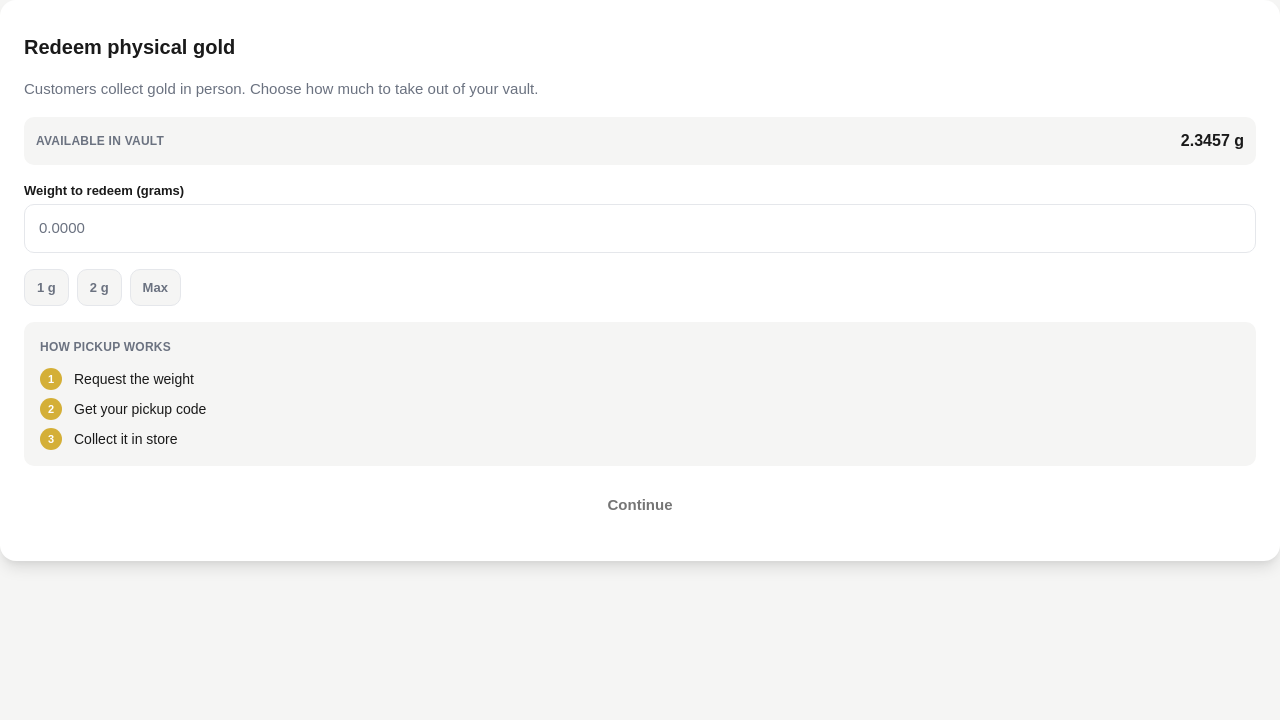
Test: RedeemFlow › fills the weight from a chip and from Max (rounded down)
Click the button "1 g": (46, 287) [24, 268, 69, 306]
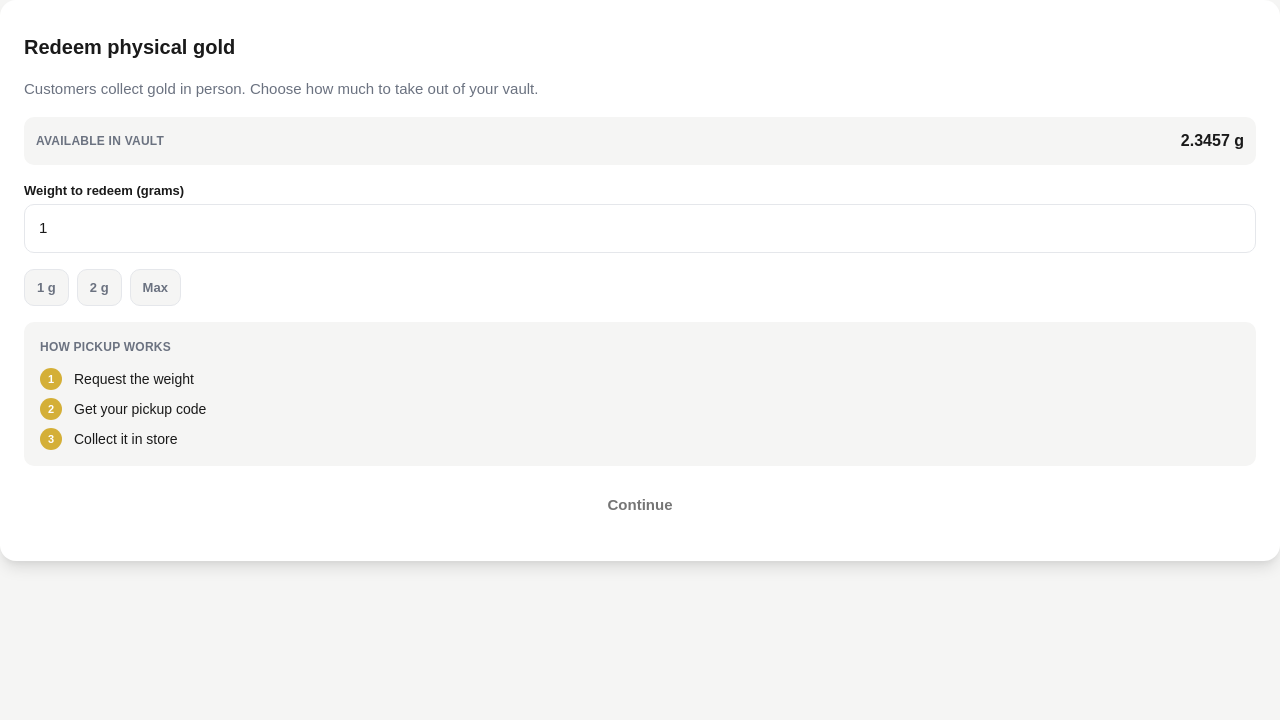
Now the field labelled "Weight to redeem (grams)" holds "1", box [37, 205, 1243, 252]
Click the button "Max": (155, 287) [130, 268, 181, 306]
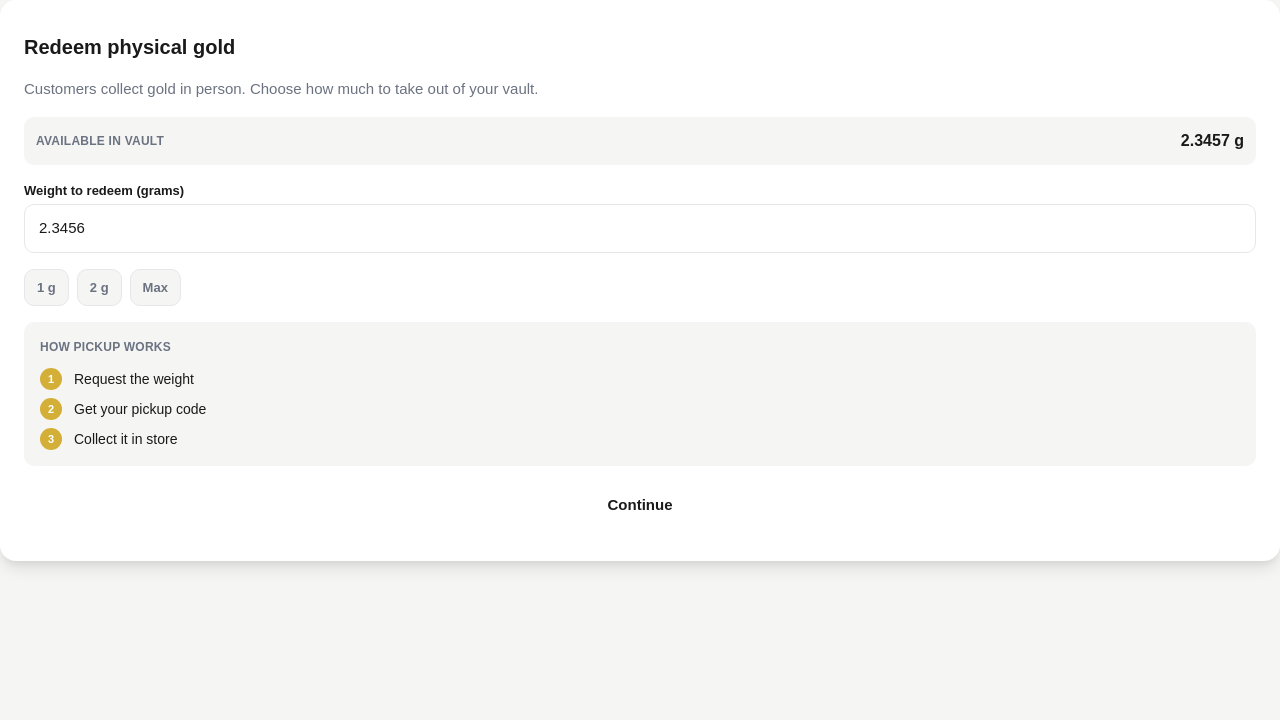
Now the field labelled "Weight to redeem (grams)" holds "2.3456", box [37, 205, 1243, 252]
Now the button "Continue" is enabled, box [24, 482, 1256, 528]
